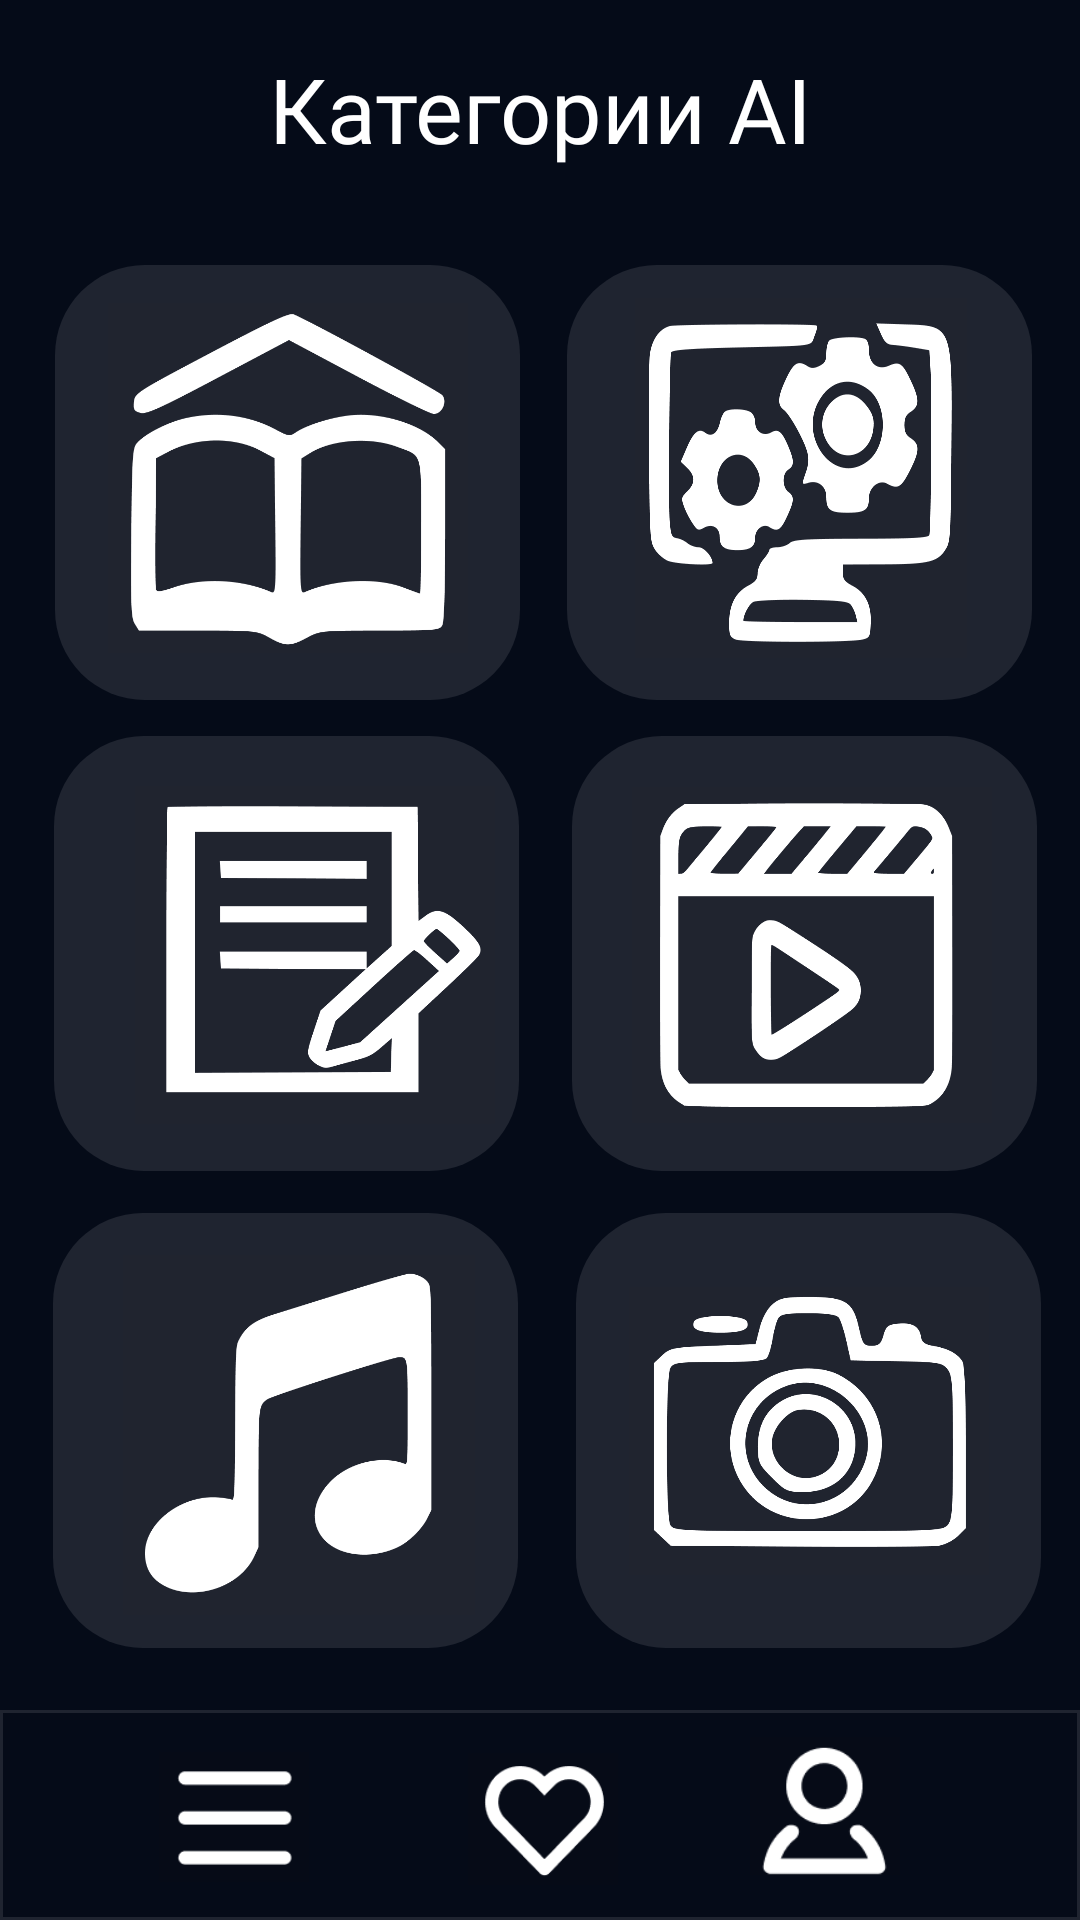

Icons on this 1080w x 1920h Android screen, each with the point to tap as [x,y]:
media: [806,955]
music: [288,1433]
photo: [810,1422]
school: [288,479]
text: [323,949]
